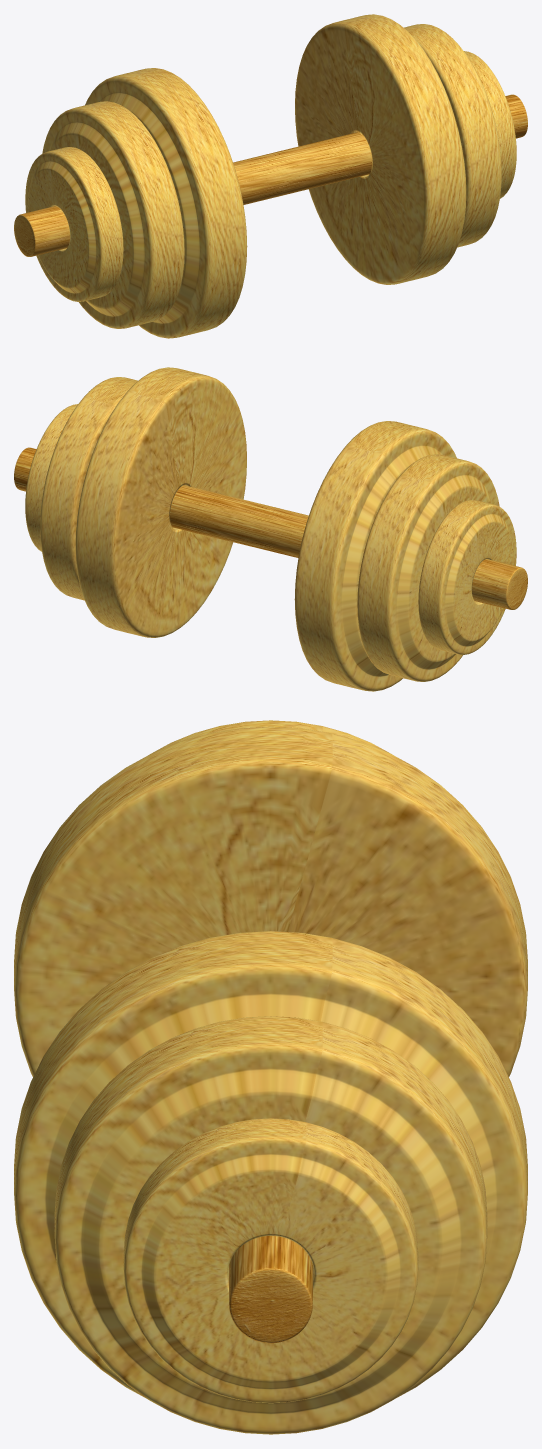
3 views of the same model, one above another, from view 1: azimuth 30°, elevation 25°; view 2: azimuth 150°, elevation 25°; view 3: azimuth 270°, elevation 25° (orthographic). The views are drawn at different scales.
Visible parts, largest first — view 1: Grappler; view 2: Grappler; view 3: Grappler.
Part boxes in pixels (x1=…): Grappler: x1=14, y1=14, x2=527, y2=338; Grappler: x1=14, y1=367, x2=527, y2=691; Grappler: x1=14, y1=720, x2=527, y2=1434.
Bounding box in the file's own units: 2 × 0.945 × 0.945.
Materials: 2 (2 with a texture image).
